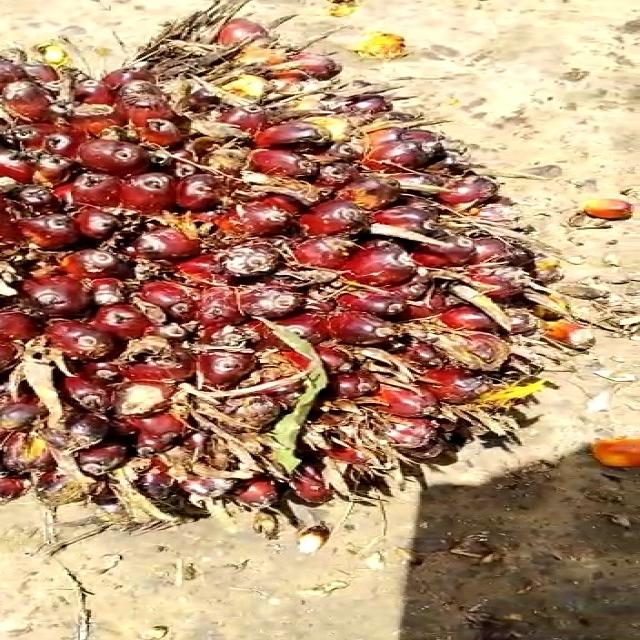palm oil: (0, 7, 575, 519)
